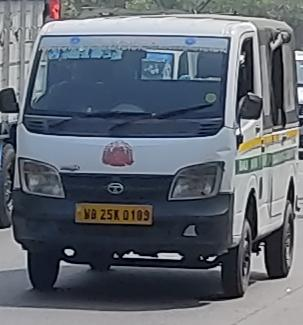Auto: (16, 12, 300, 299)
